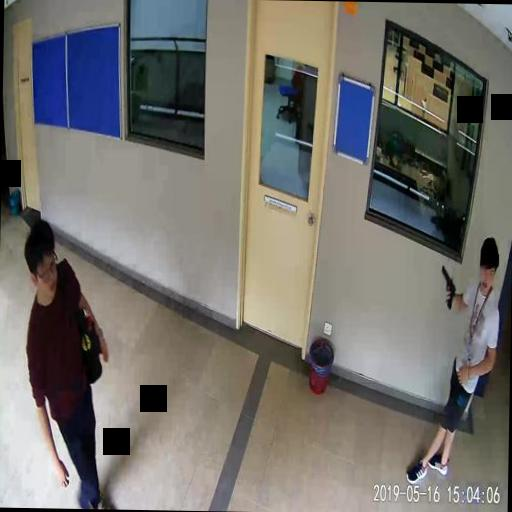Handgun: (439, 266, 455, 308)
